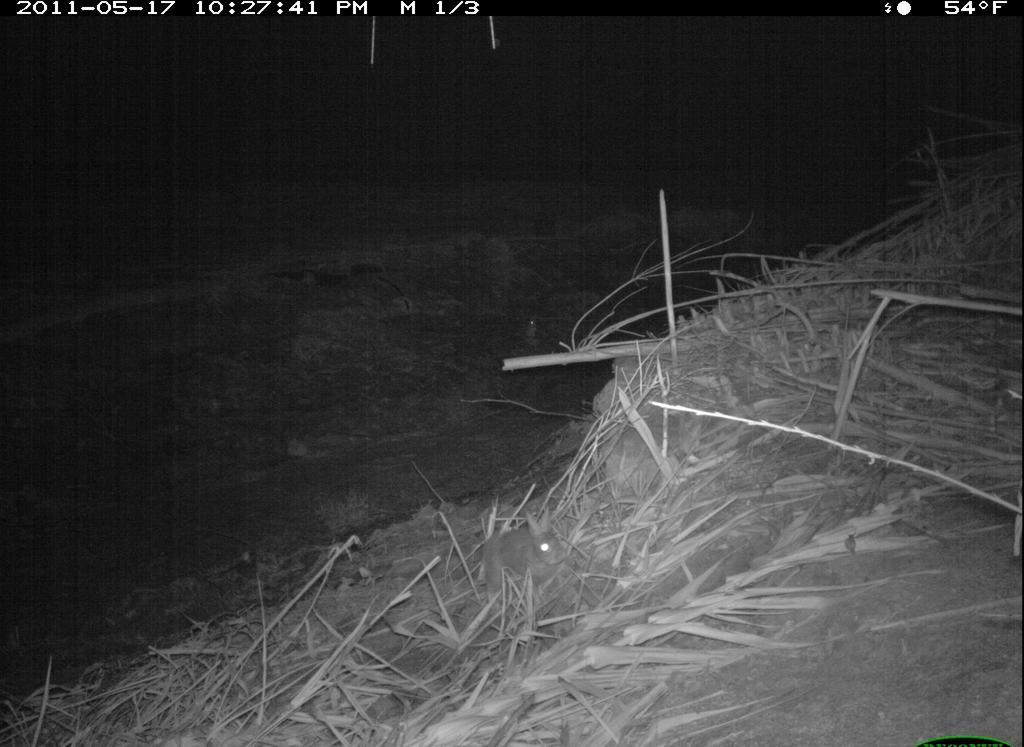rabbit: (479, 502, 580, 601)
